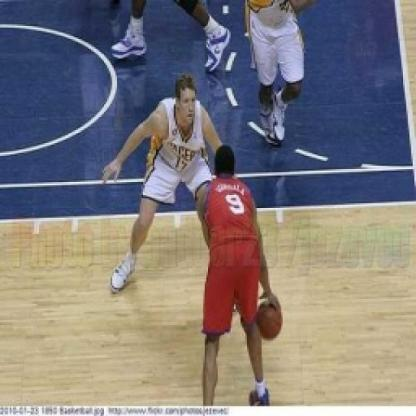basketball: (250, 300, 288, 344)
